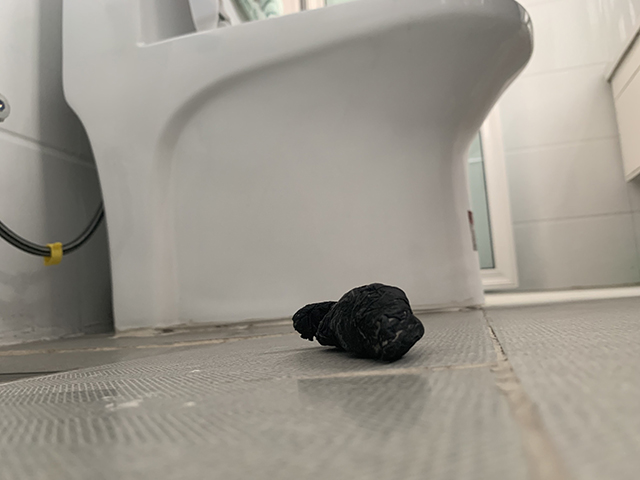closestool: (61, 1, 536, 335)
feces: (288, 282, 426, 366)
